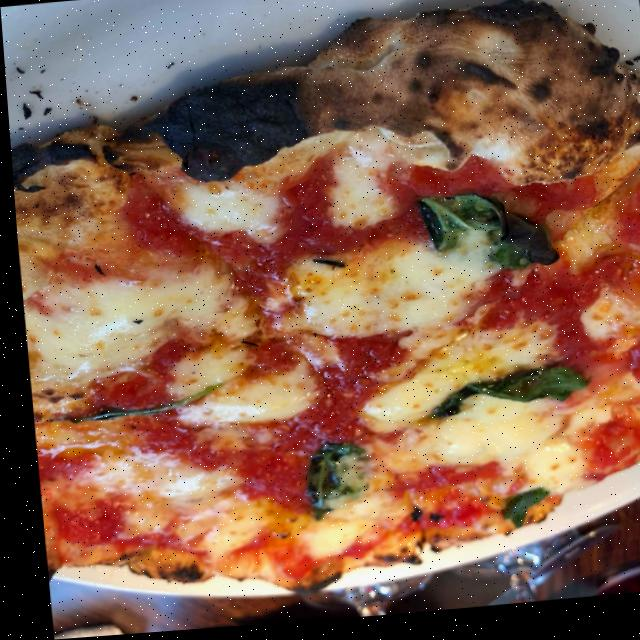basil: (408, 188, 558, 287), (412, 367, 585, 429), (39, 384, 221, 426), (290, 440, 364, 529), (486, 494, 542, 536)
pizza: (1, 0, 640, 620)
